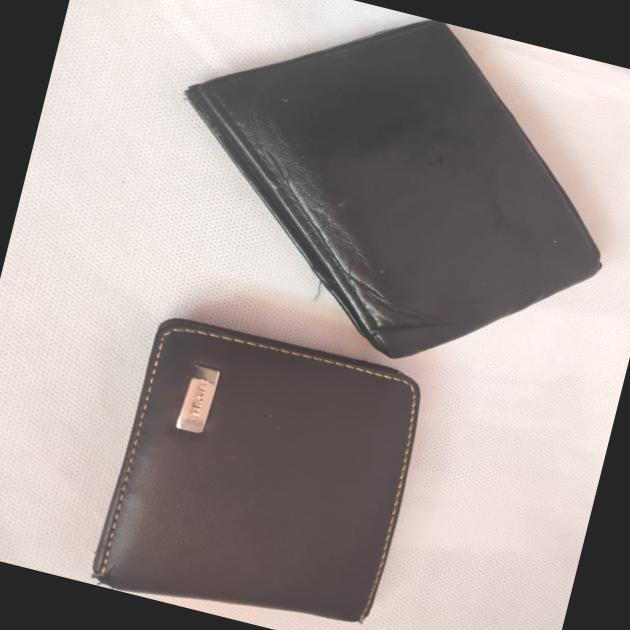wallet: (135, 0, 623, 349), (69, 306, 468, 630)
